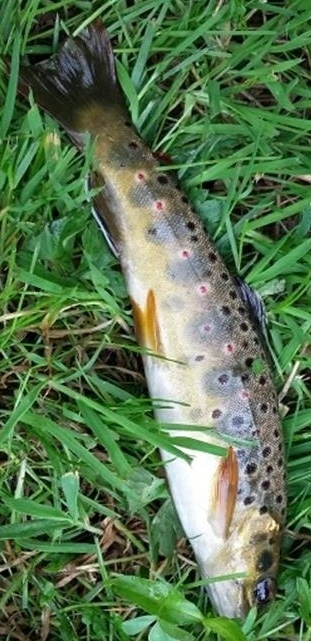Salmo trutta subsp. fario: (20, 20, 291, 621)
